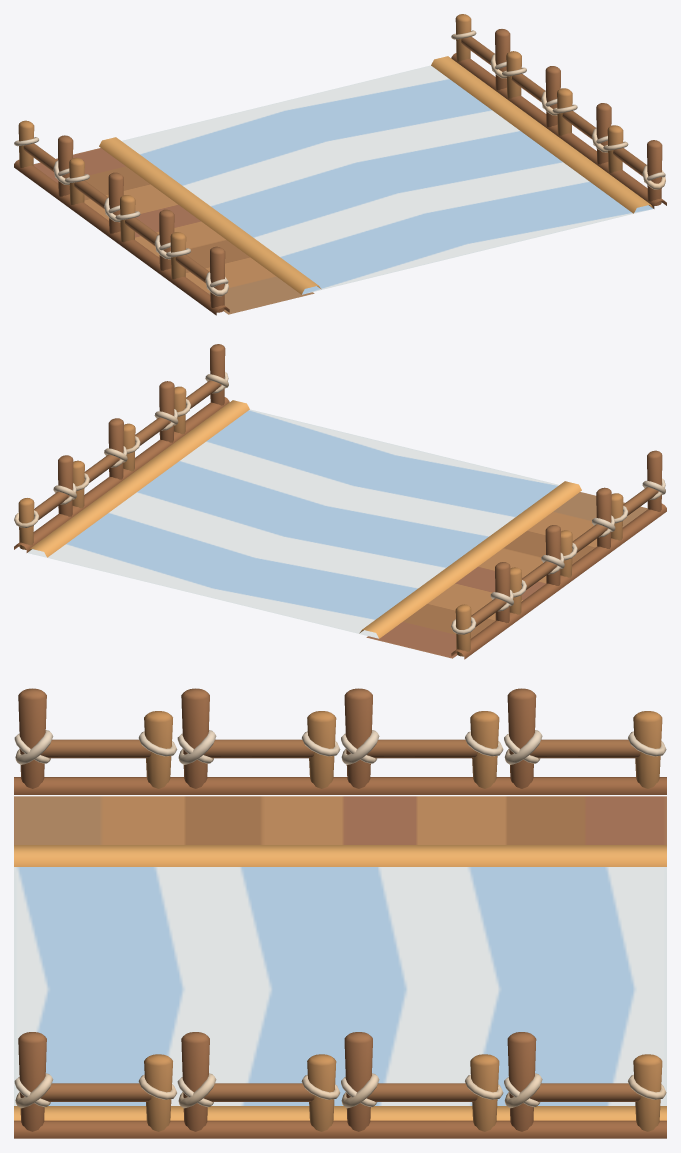
File: wooden line short.fbx
3 views of the same model, one above another, from view 1: azimuth 30°, elevation 25°; view 2: azimuth 150°, elevation 25°; view 3: azimuth 270°, elevation 25° (orthographic). The views are drawn at different scales.
Visible parts, largest first — view 1: wooden line; view 2: wooden line; view 3: wooden line.
Boxes of the visible parts, x1=… form: wooden line: x1=14, y1=14, x2=666, y2=315; wooden line: x1=14, y1=344, x2=666, y2=659; wooden line: x1=14, y1=688, x2=666, y2=1138.
Size of the model in its own units: 653 by 85.71 by 499.
